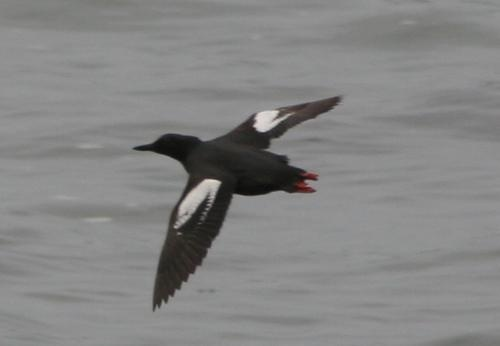bird: (123, 99, 337, 306)
